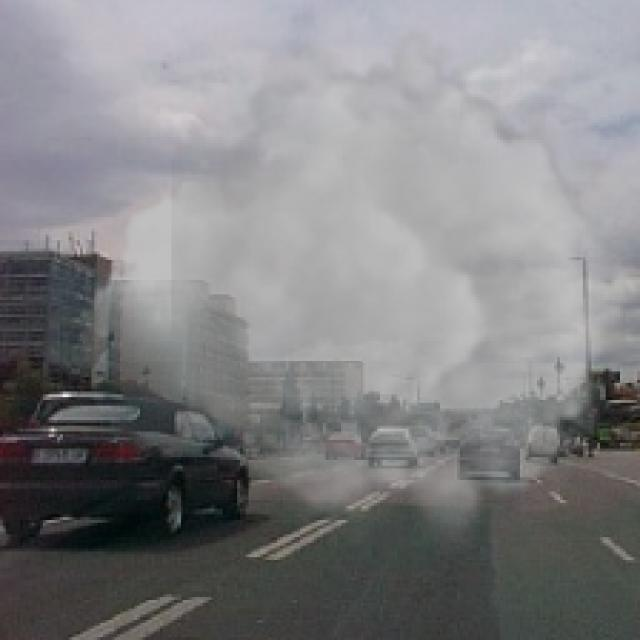smoke: (80, 26, 626, 554)
